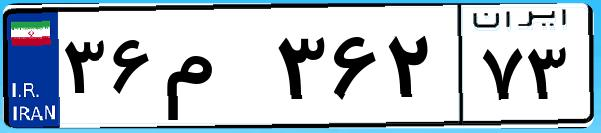2: (385, 28, 445, 110)
3: (270, 28, 330, 110), (57, 26, 110, 100), (525, 38, 570, 115)
6: (330, 28, 385, 110), (110, 28, 158, 98)
7: (475, 38, 525, 113)
م: (158, 20, 270, 120)
